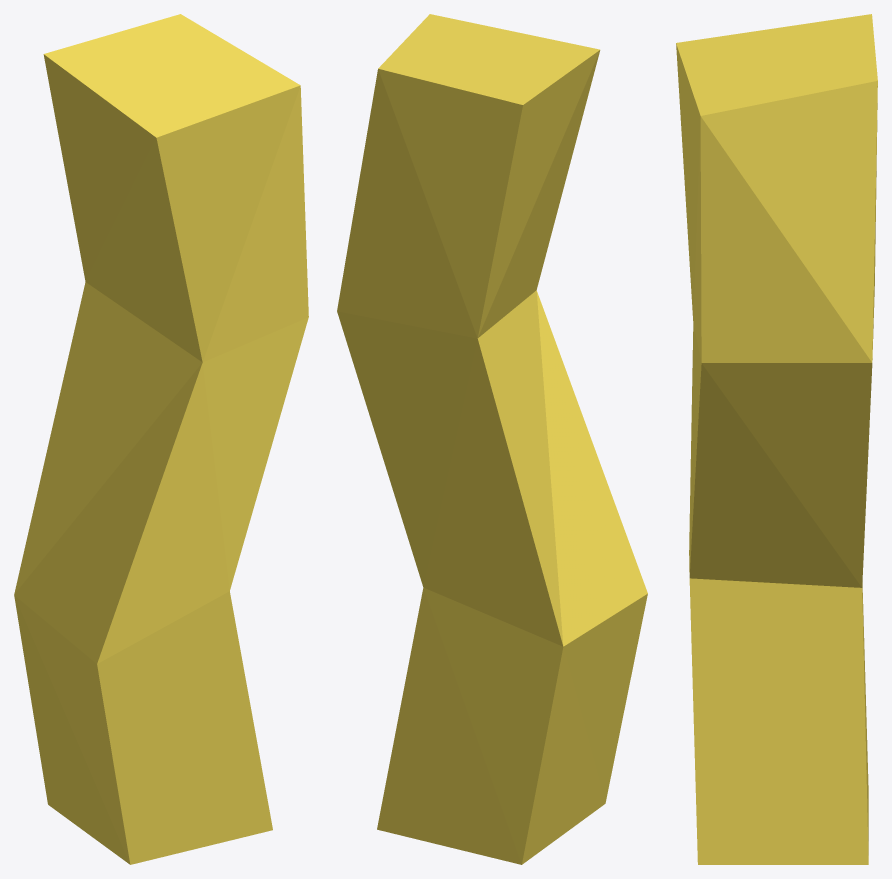
File: stem0.obj
3 views of the same model, side by side, from view 1: azimuth 30°, elevation 25°; view 2: azimuth 150°, elevation 25°; view 3: azimuth 270°, elevation 25° (orthographic). The views are drawn at different scales.
Visible parts, largest first — view 1: Stem1; view 2: Stem1; view 3: Stem1.
Part boxes in pixels (x1,y1,x2,y2): Stem1: (14, 14, 308, 864); Stem1: (337, 14, 647, 864); Stem1: (676, 14, 877, 864).
Bounding box in the file's own units: 0.0762 × 0.2522 × 0.059.
